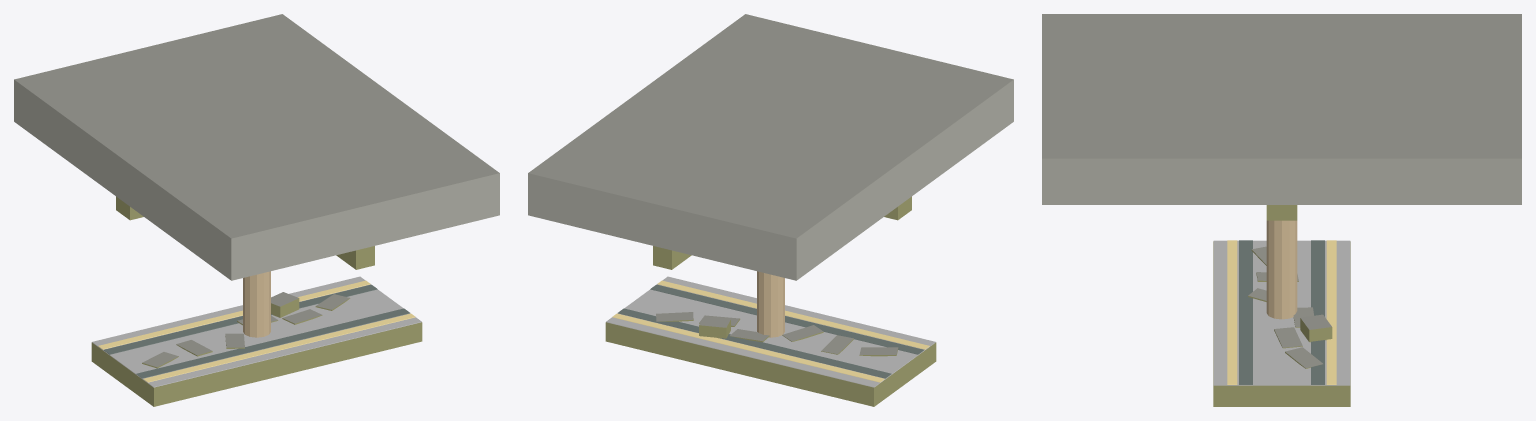
File: SM_AndenLosa_Central_v1_TechoCaido_LOD0.fbx
3 views of the same model, side by side, from view 1: azimuth 30°, elevation 25°; view 2: azimuth 150°, elevation 25°; view 3: azimuth 270°, elevation 25° (orthographic). The views are drawn at different scales.
Visible parts, largest first — view 1: Losa, SM_anden_losa_v1_LOD0; view 2: Losa, SM_anden_losa_v1_LOD0; view 3: Losa, SM_anden_losa_v1_LOD0.
Part boxes in pixels (bbox=[...]): Losa: bbox=[14, 14, 499, 280]; SM_anden_losa_v1_LOD0: bbox=[91, 271, 422, 406]; Losa: bbox=[528, 14, 1013, 280]; SM_anden_losa_v1_LOD0: bbox=[605, 271, 936, 406]; Losa: bbox=[1042, 14, 1521, 220]; SM_anden_losa_v1_LOD0: bbox=[1213, 220, 1350, 406].
Bounding box in the file's own units: 9.98 × 8 × 14.
